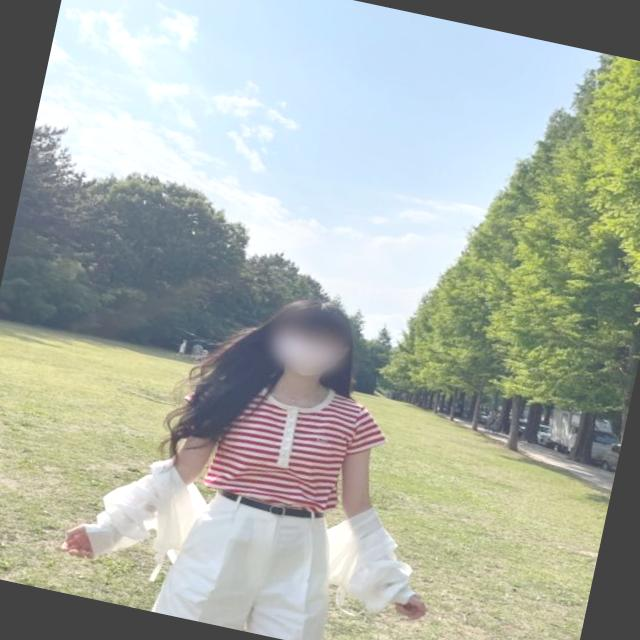shortpants: (155, 478, 356, 640)
shortsleeve: (153, 362, 391, 526)
